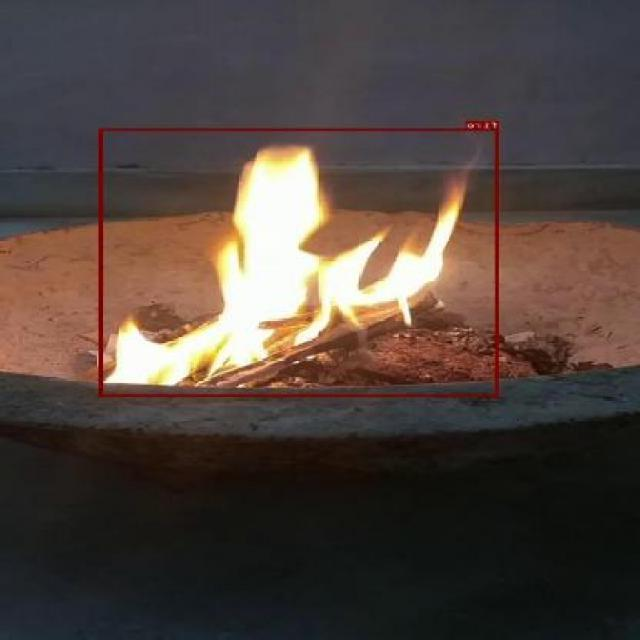Fire: (101, 128, 501, 396)
